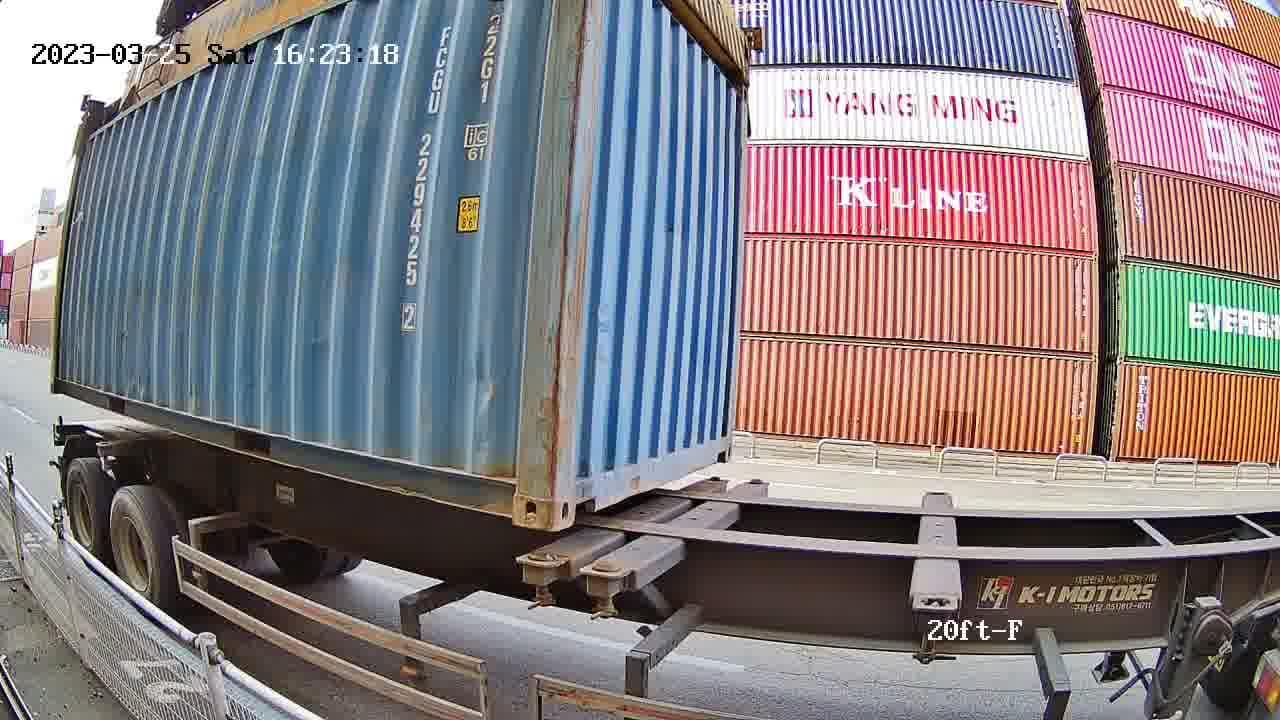Chassis: (583, 481, 766, 589), (521, 476, 728, 569)
Cone: (581, 562, 634, 623), (518, 551, 566, 609)
Hole_L: (553, 452, 601, 531)
Hole_R: (479, 453, 554, 529), (706, 421, 734, 464)
Tire: (110, 488, 165, 613), (67, 460, 105, 563)
